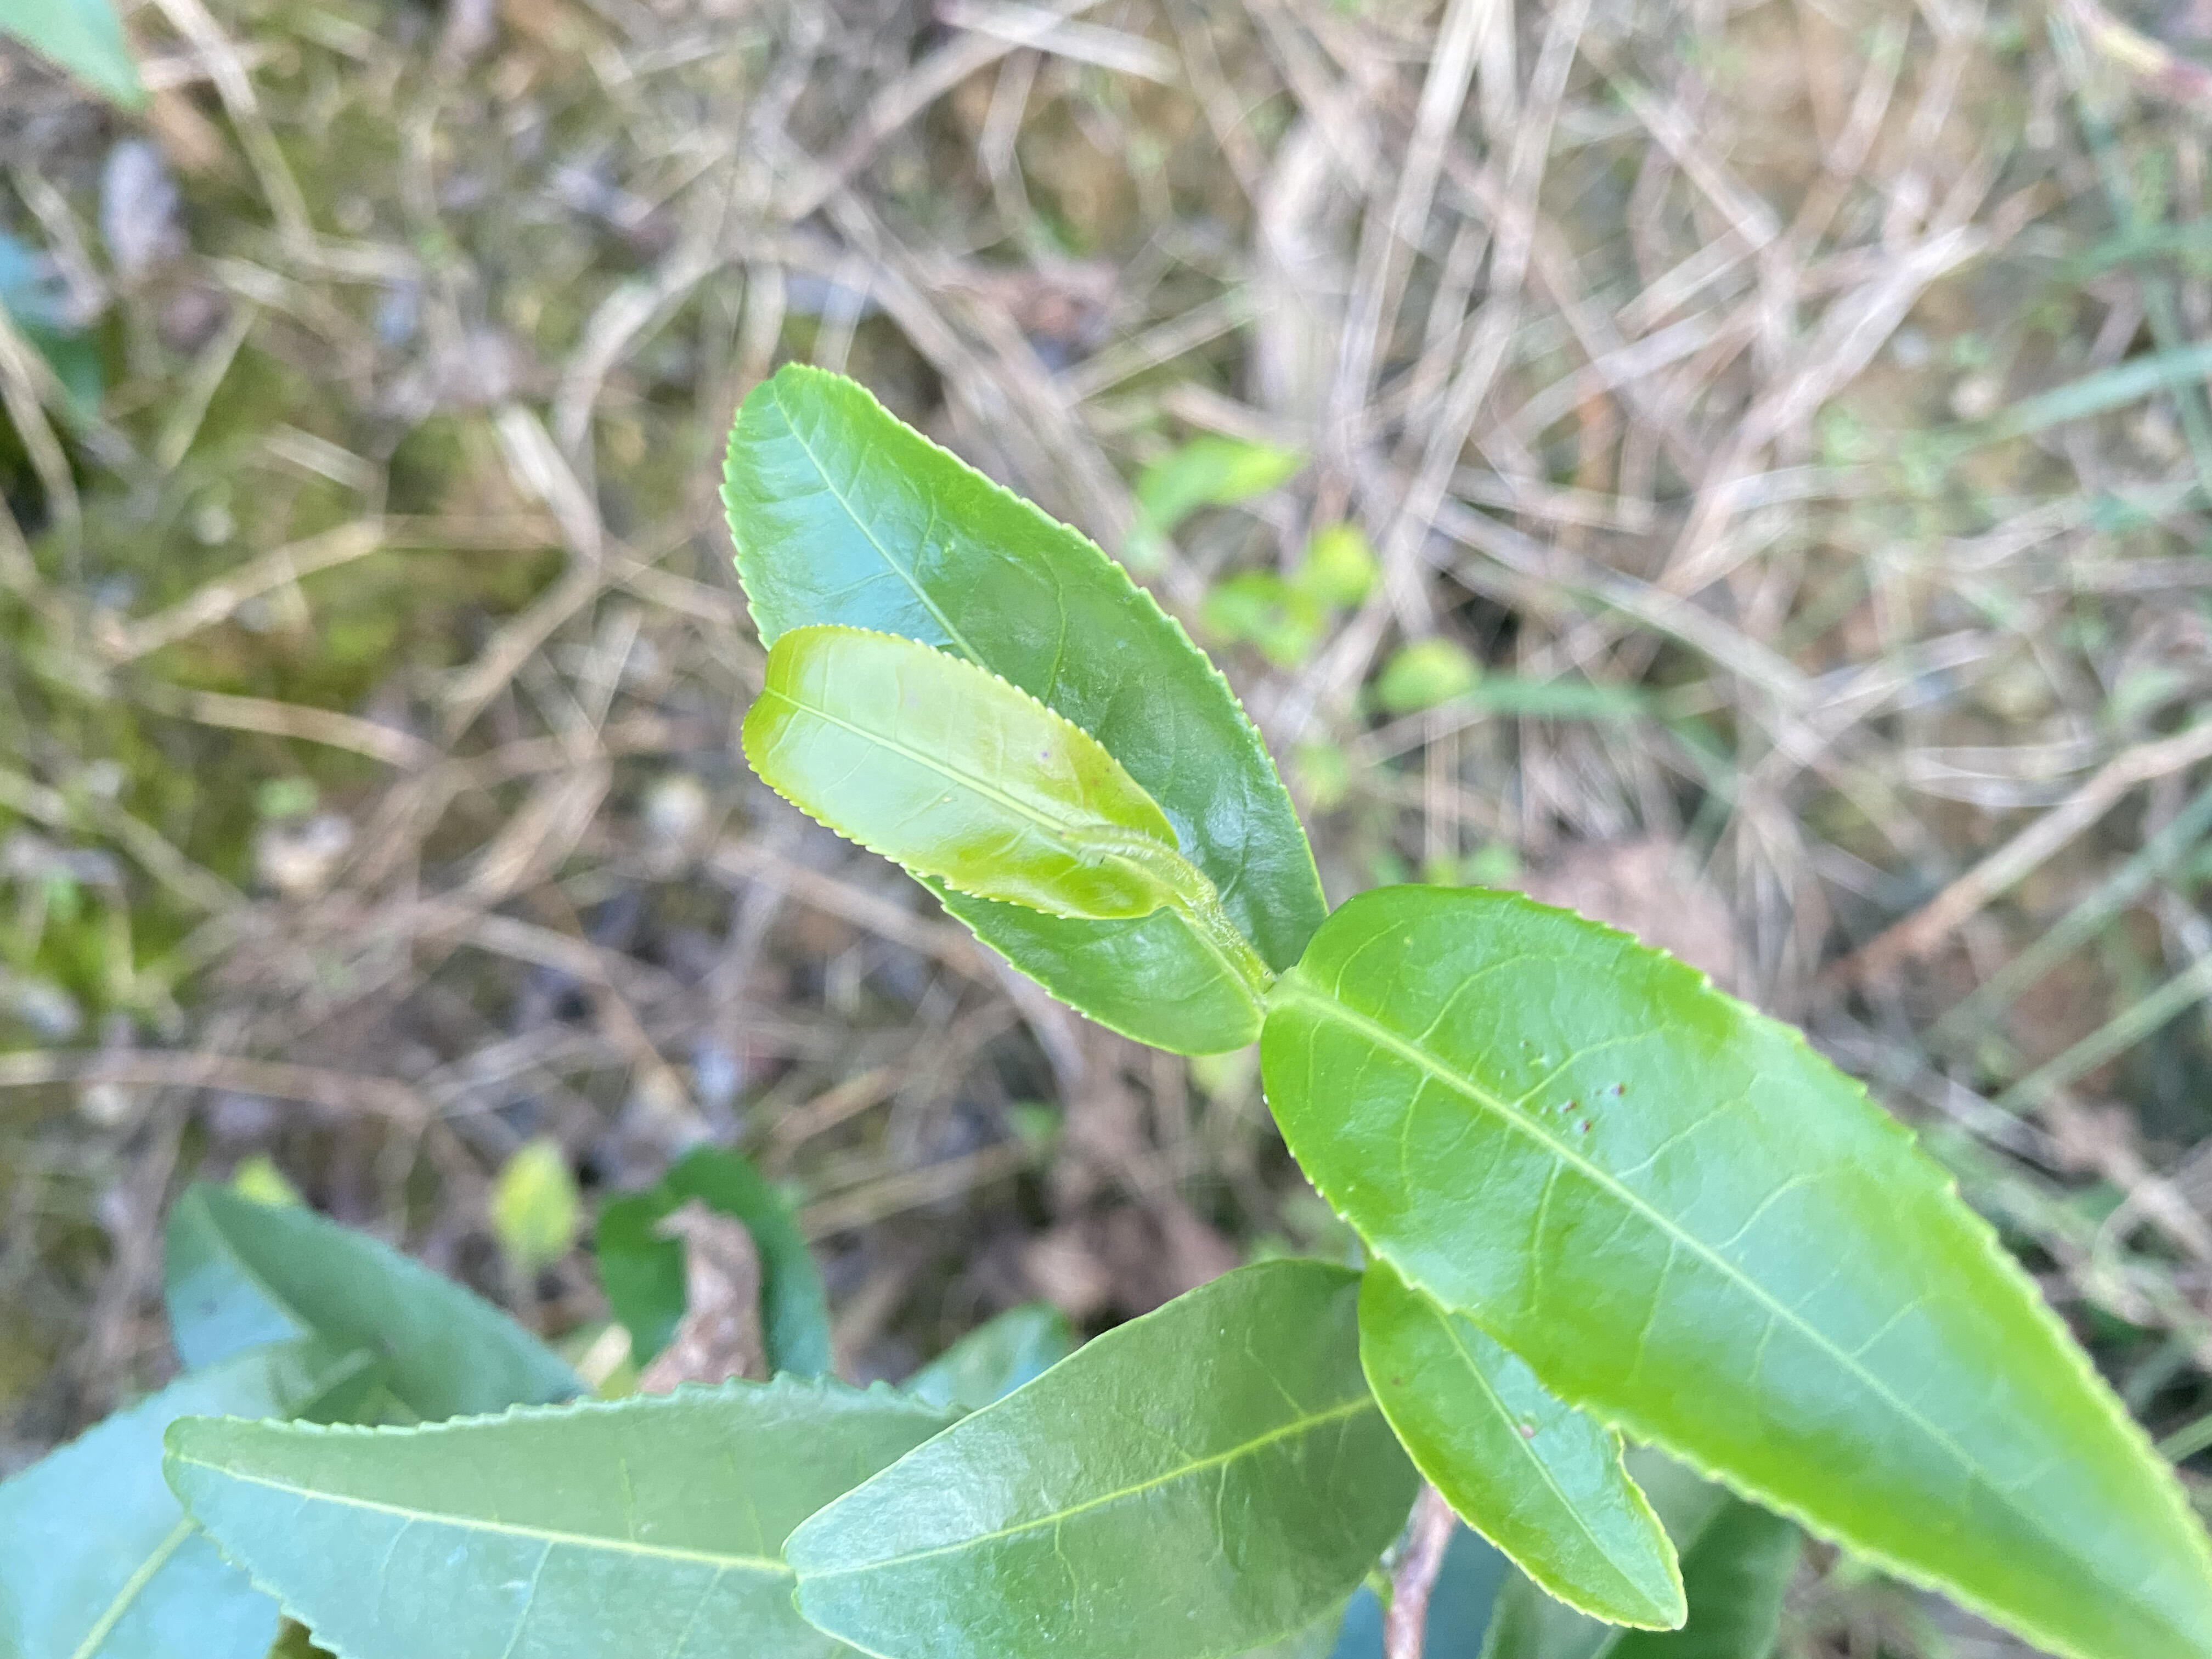tanju_low: (1259, 878, 2209, 1656), (737, 624, 1177, 922)
